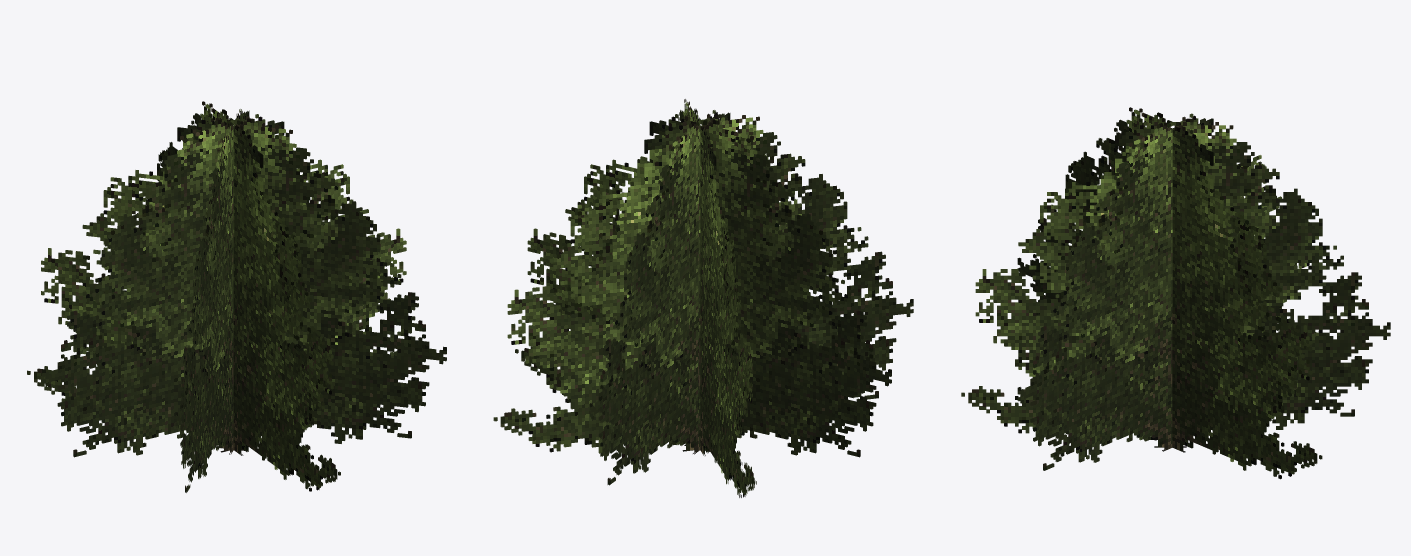
Rendered from bush04.glb.
3 views of the same model, side by side, from view 1: azimuth 30°, elevation 25°; view 2: azimuth 150°, elevation 25°; view 3: azimuth 270°, elevation 25° (orthographic).
Visible parts, largest first — view 1: bush04; view 2: bush04; view 3: bush04.
Part boxes in pixels (x1,y1,x2,y2): bush04: [27, 101, 446, 492]; bush04: [493, 99, 913, 497]; bush04: [961, 107, 1390, 479].
Size of the model in its own units: 9 by 7.5 by 9.
1 material, 1 textured.
